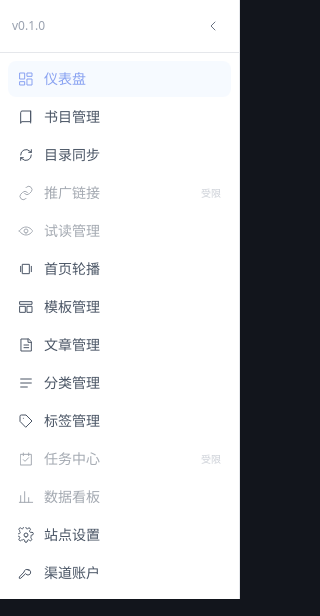
Test: 侧栏 · 折叠与展开 › 收起后只剩图标：文字与版本号退场，宽度收窄，按钮语义反转
Click the button: (213, 26) [199,12,227,40]
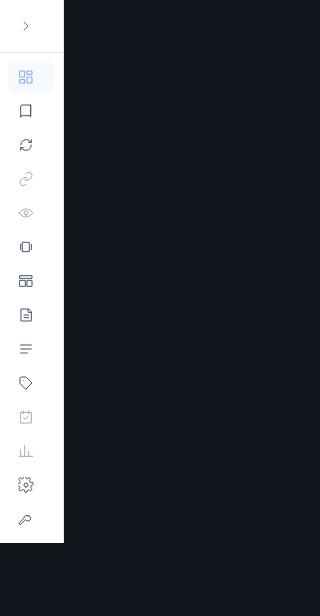
Expected: the button is collapsed, [12,12,40,40]
Expected: the text "书目管理" is gone
Expected: the text titled "构建版本" is gone
